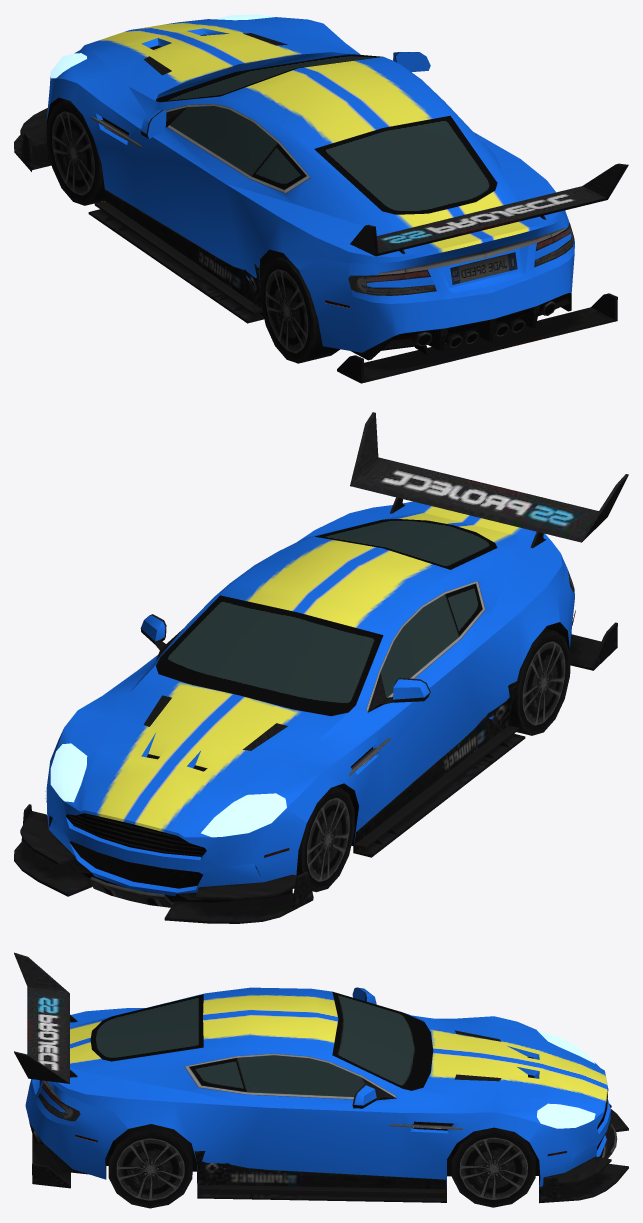
Rendered from car_64.glb.
The picture shows the model from 3 angles, top to bottom: view 1: azimuth 30°, elevation 25°; view 2: azimuth 150°, elevation 25°; view 3: azimuth 270°, elevation 25°; orthographic projection. The views are drawn at different scales.
Visible parts, largest first — view 1: car_64; view 2: car_64; view 3: car_64.
Boxes of the visible parts, box(x1,y1,x2,y2) form: car_64: box(14, 14, 628, 383); car_64: box(14, 412, 628, 923); car_64: box(14, 952, 628, 1208).
Size of the model in its own units: 20.38 by 13.37 by 47.81.
Materials: 12 (12 with a texture image).
